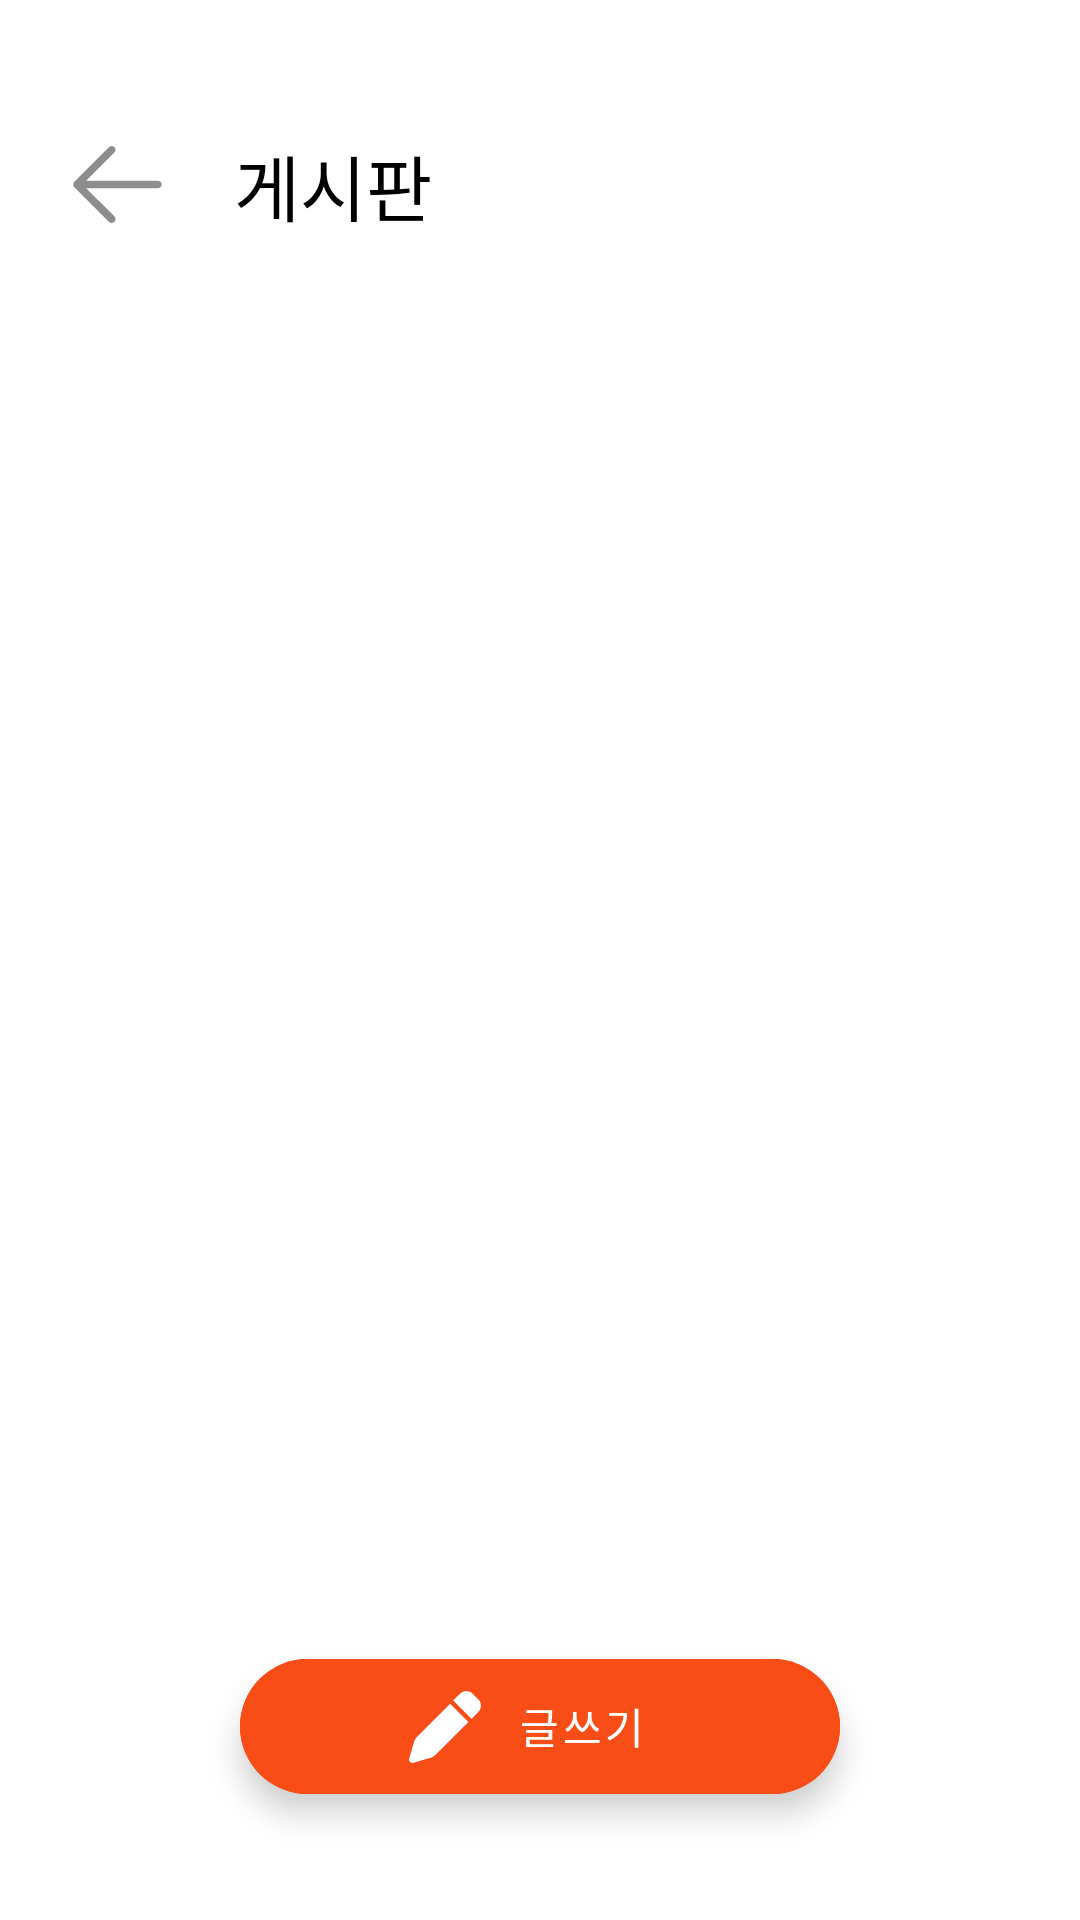

Screen size 1080x1920. Icon name, then its box in pixels as region(x1, y1, x2, y2):
back: region(73, 146, 162, 223)
